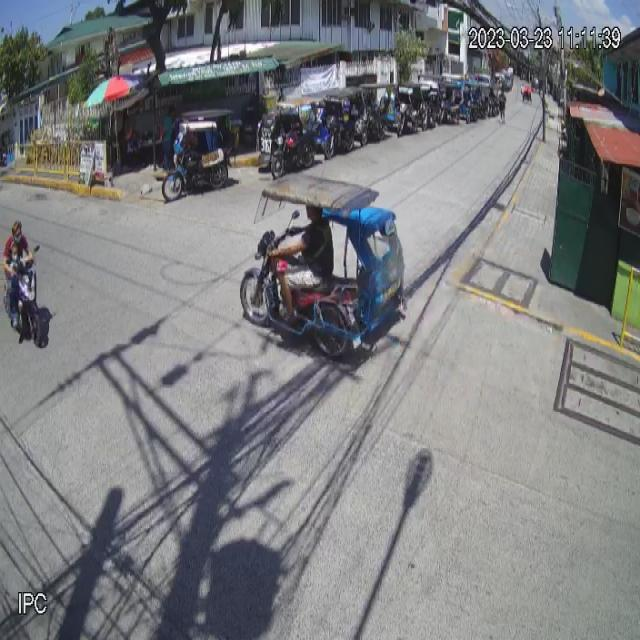Tricycle: (239, 174, 406, 358)
